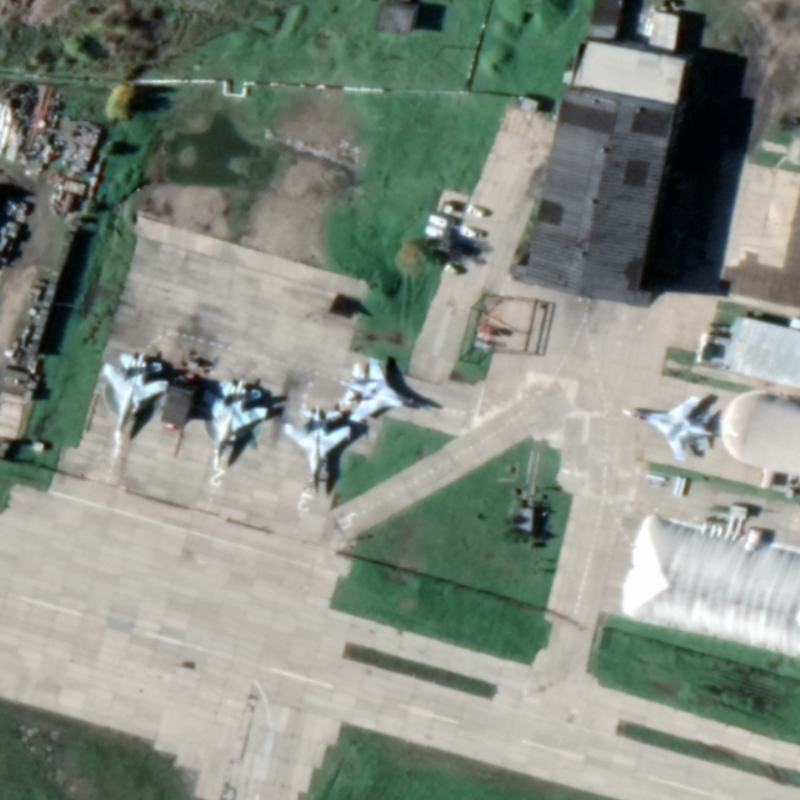A1: (281, 402, 353, 498), (199, 376, 269, 474), (338, 354, 432, 426), (619, 393, 715, 463), (99, 350, 170, 444)
